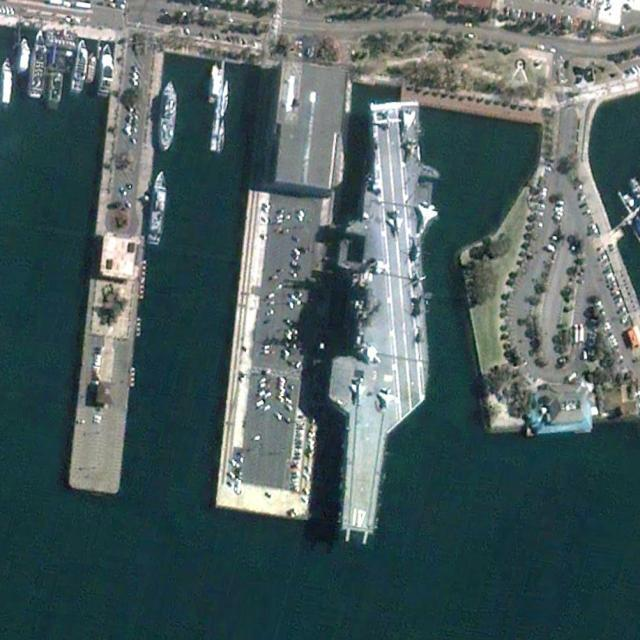Aircraft Carrier: (316, 90, 452, 540)
Other Ship: (29, 31, 50, 100), (97, 44, 115, 99), (73, 40, 89, 95), (1, 55, 15, 100), (17, 37, 32, 75), (86, 52, 98, 85)
Other Warship: (145, 166, 172, 251), (156, 80, 180, 151)
